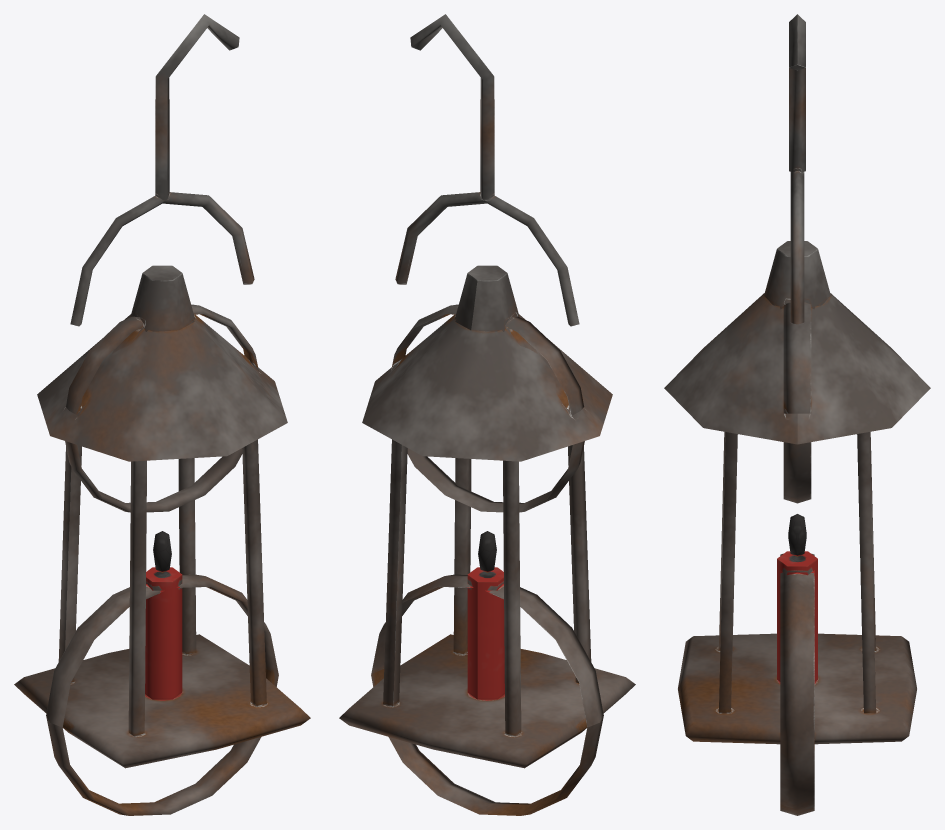
The model's file is SM_Camp_Lantern.fbx.
3 views of the same model, side by side, from view 1: azimuth 30°, elevation 25°; view 2: azimuth 150°, elevation 25°; view 3: azimuth 270°, elevation 25° (orthographic). The views are drawn at different scales.
Visible parts, largest first — view 1: SM_Camp_Lantern; view 2: SM_Camp_Lantern; view 3: SM_Camp_Lantern.
Part boxes in pixels (<box>): SM_Camp_Lantern: <box>14,14,310,815</box>; SM_Camp_Lantern: <box>339,14,635,815</box>; SM_Camp_Lantern: <box>664,14,930,815</box>.
Bounding box in the file's own units: 15.6 × 15.6 × 52.29.
